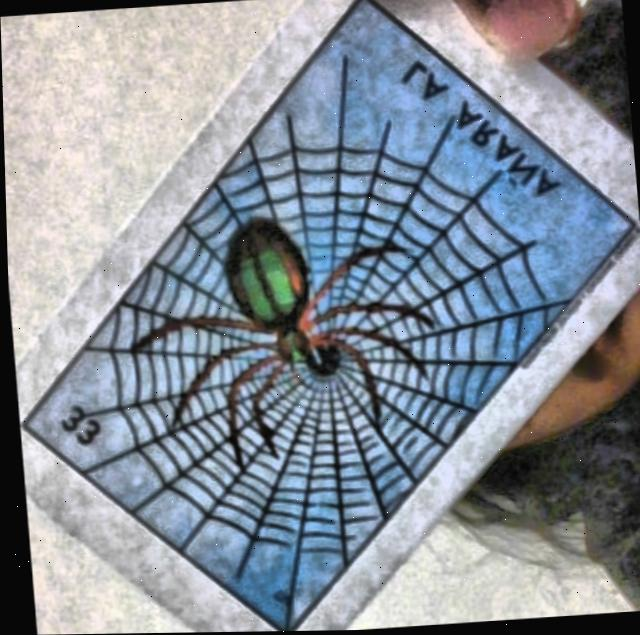La Arana: (20, 1, 633, 632)
